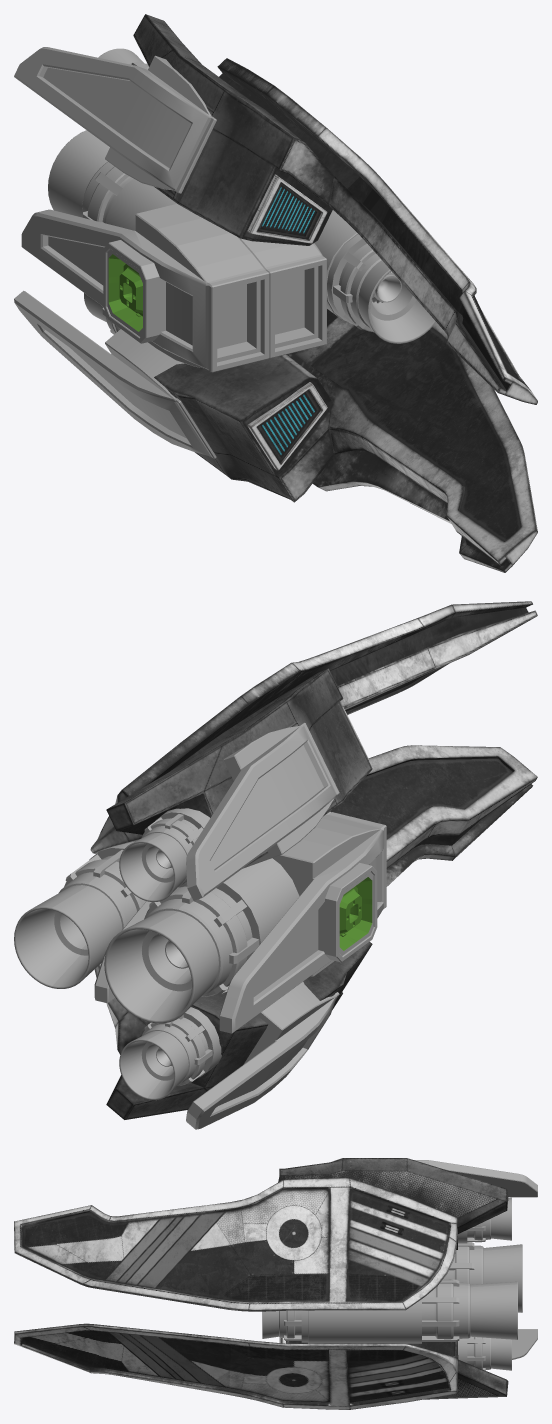
The model's file is Largest Wing module.fbx.
3 renders of one model, top to bottom at view 1: azimuth 30°, elevation 25°; view 2: azimuth 150°, elevation 25°; view 3: azimuth 270°, elevation 25°, orthographic. The views are drawn at different scales.
Parts seen in each view (by area): view 1: Large_Wing, Thruster4, Thruster1; view 2: Large_Wing, Thruster1, Thruster, Thruster3, Thruster2; view 3: Large_Wing, Thruster, Thruster1, Thruster3, Thruster2, Thruster4.
Part boxes in pixels (bbox=[...]): Large_Wing: bbox=[14, 14, 537, 572]; Thruster4: bbox=[358, 260, 435, 343]; Thruster1: bbox=[48, 130, 109, 217]; Large_Wing: bbox=[59, 601, 537, 1129]; Thruster1: bbox=[104, 910, 218, 1023]; Thruster: bbox=[14, 885, 122, 988]; Thruster3: bbox=[119, 1031, 188, 1100]; Thruster2: bbox=[119, 833, 186, 901]; Large_Wing: bbox=[14, 1158, 537, 1409]; Thruster: bbox=[470, 1281, 517, 1339]; Thruster1: bbox=[483, 1244, 522, 1312]; Thruster3: bbox=[491, 1338, 511, 1370]; Thruster2: bbox=[491, 1197, 511, 1240]; Thruster4: bbox=[262, 1311, 278, 1338].
Bounding box in the file's own units: 1719 × 2573 × 5044.
